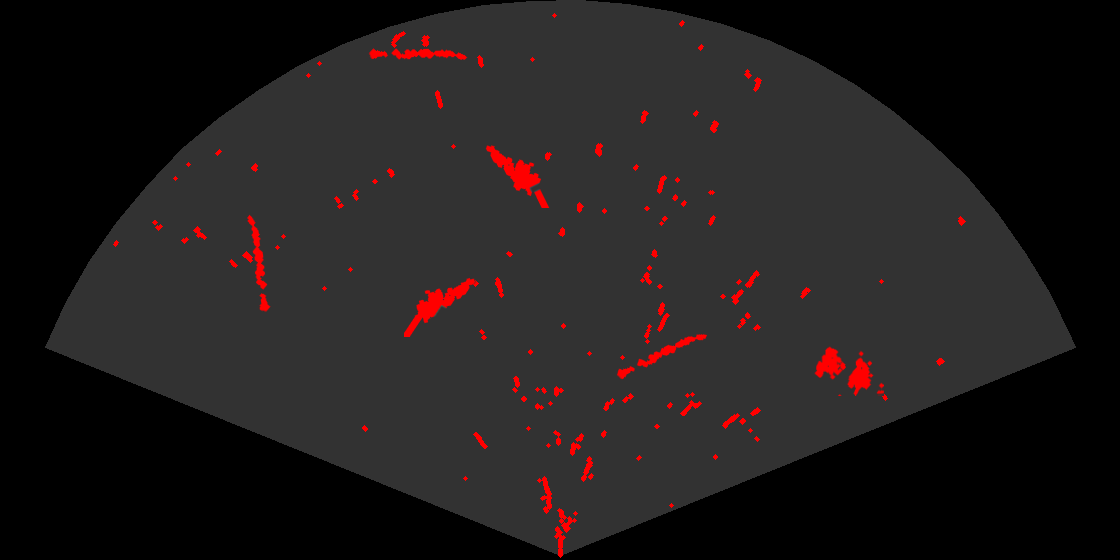cage: (813, 345, 884, 396)
chain: (615, 333, 709, 381), (246, 213, 272, 314), (368, 47, 468, 61)
frogman: (404, 276, 477, 337), (484, 144, 551, 208)
